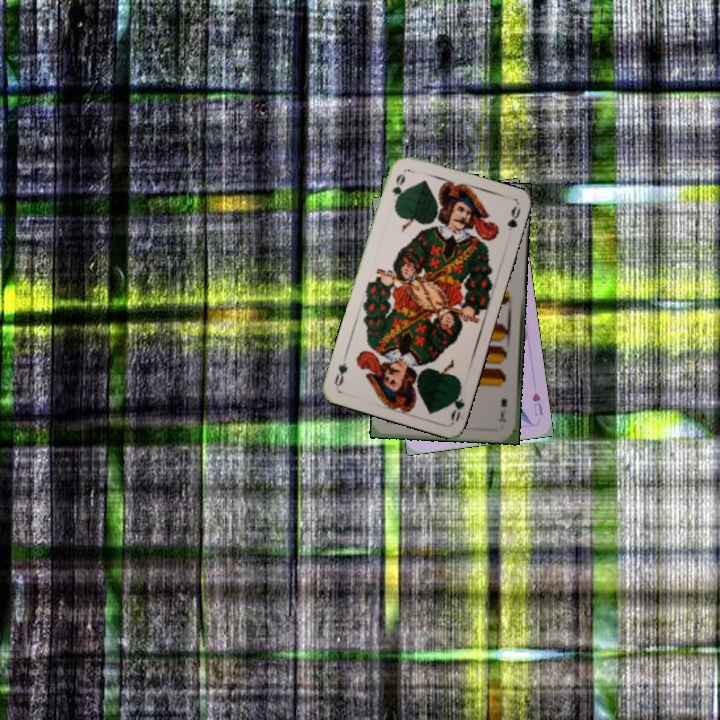E7: (495, 394, 510, 424)
GO: (445, 383, 467, 423), (388, 169, 408, 208)
HU: (528, 388, 545, 418)
